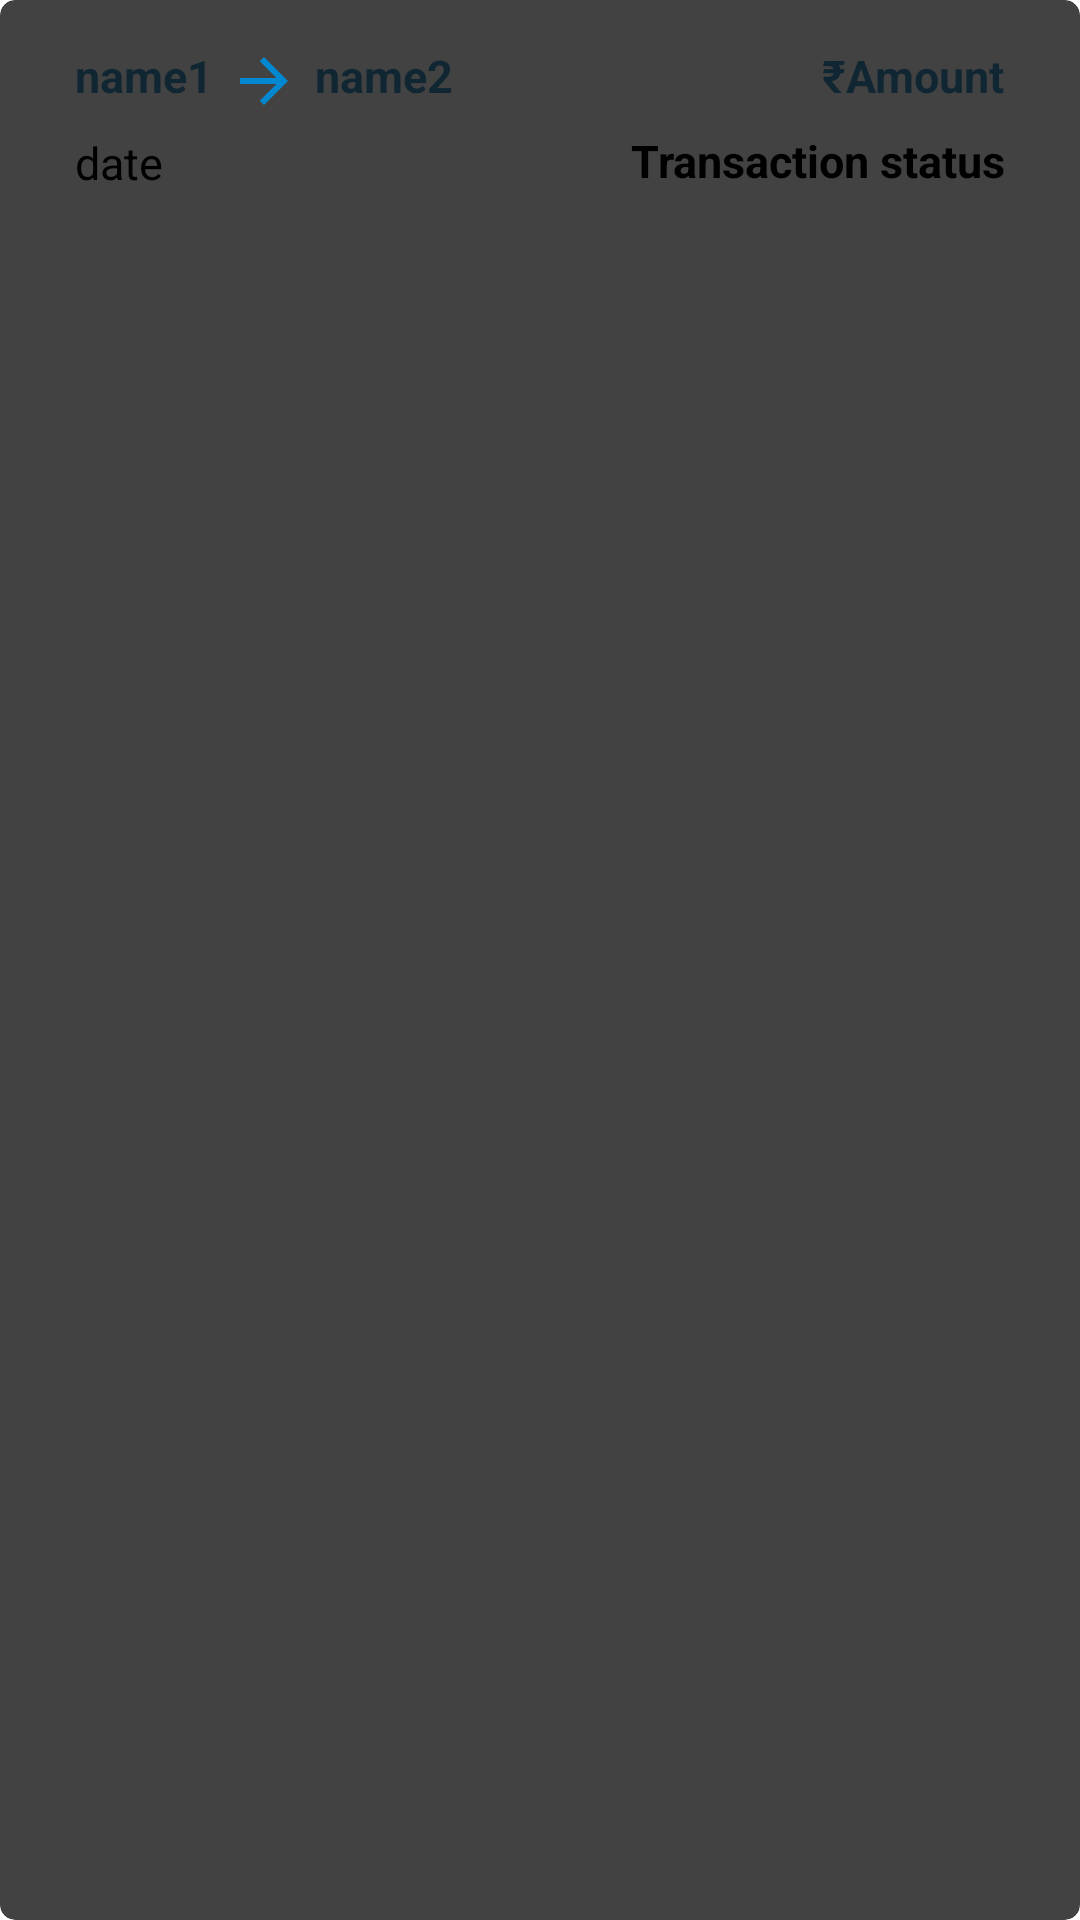

Icons on this 1080×1920 Android screen, each with the point to tap as (x,y):
arrow: (264,81)
